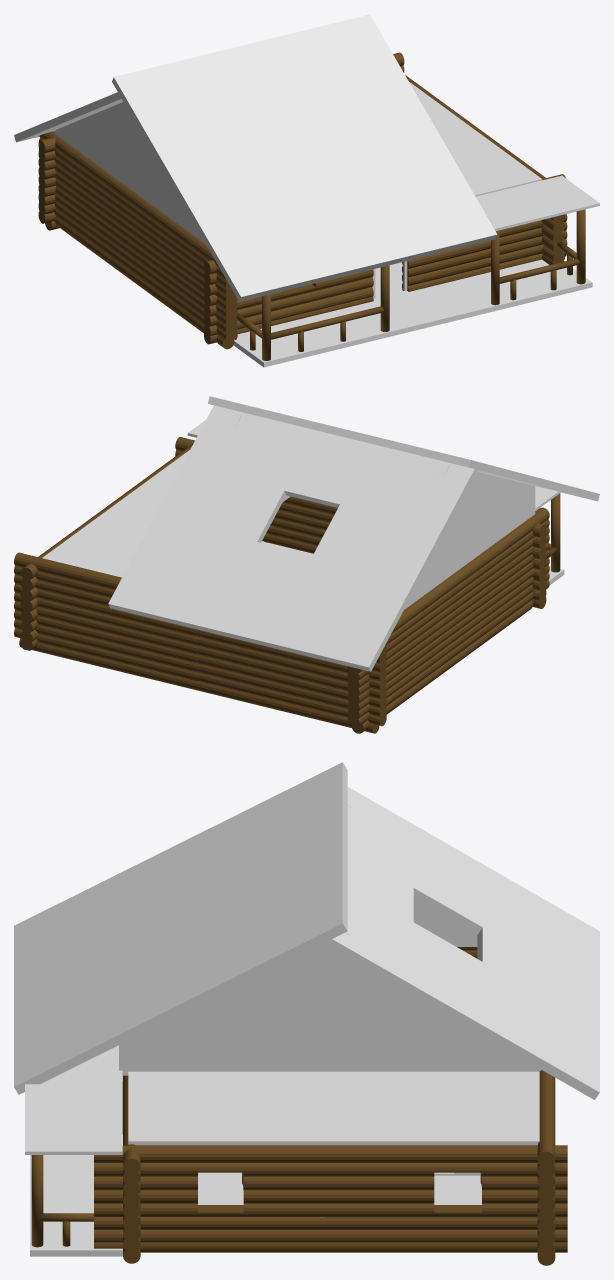
The model's file is Player_Cabin 1.fbx.
The picture shows the model from 3 angles, top to bottom: view 1: azimuth 30°, elevation 25°; view 2: azimuth 150°, elevation 25°; view 3: azimuth 270°, elevation 25°; orthographic projection. The views are drawn at different scales.
Visible parts, largest first — view 1: Cube.037, Porch, LeftWall_01, LeftWall_02, RoofWalls, FrontWall_01, Roof_04.001, Plane, Main_Poles, FrontWall_02, FrontWall_03, Cylinder.023 (+6 smaller); view 2: Cube.063, BackWall_02, BackWall_01, LeftWall_01, LeftWall_02, RoofWalls, Roof_04.001, LowBeams, Cube.037, FrontWall_02, RightWall_02, FrontWall_01 (+2 smaller); view 3: Cube.037, Cube.063, RoofWalls, Roof_04.001, RightWall_02, RightWall_01, Plane, Porch, BackWall_02, Floor, FrontWall_03, Main_Poles.
Part boxes in pixels (x1,y1,x2,y2): Cube.037: (112,14,497,301); Porch: (233,259,592,367); LeftWall_01: (132,195,237,341); LeftWall_02: (39,131,137,273); RoofWalls: (55,102,205,244); FrontWall_01: (204,260,373,344); Roof_04.001: (409,82,542,196); Plane: (476,175,599,231); Main_Poles: (262,209,585,360); FrontWall_02: (402,243,480,291); FrontWall_03: (479,174,567,274); Cylinder.023: (236,241,579,339); Cube.063: (108,405,478,671); BackWall_02: (14,552,197,681); BackWall_01: (197,629,386,726); LeftWall_01: (449,507,549,656); LeftWall_02: (347,577,454,726); RoofWalls: (228,412,535,609); Roof_04.001: (42,450,189,577); LowBeams: (19,600,533,733); Cube.037: (208,396,599,501); FrontWall_02: (263,496,337,553); RightWall_02: (20,497,123,650); FrontWall_01: (532,523,546,608); Cube.037: (14,762,347,1094); Cube.063: (322,787,599,1099); RoofWalls: (119,801,541,1075); Roof_04.001: (128,1071,539,1145); RightWall_02: (325,1145,567,1252); RightWall_01: (94,1145,324,1252); Plane: (25,1045,122,1154); Porch: (30,1135,122,1256); BackWall_02: (537,1070,555,1255); Floor: (198,1172,481,1204); FrontWall_03: (123,1105,140,1263); Main_Poles: (31,1155,43,1247).
Bounding box in the file's own units: 1498 × 833 × 1600.
